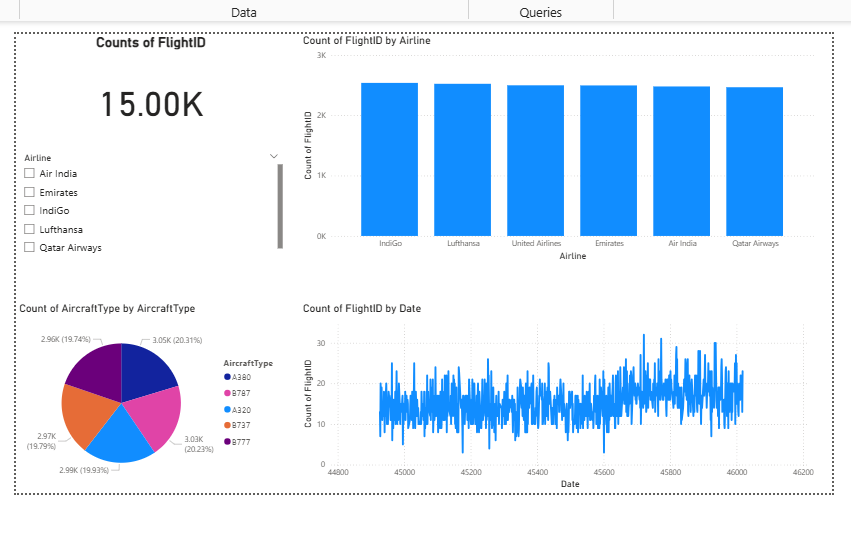

What the dashboard file says about the page in this screenshot:
{"tool":"powerbi","page":{"name":"Page 2","canvas":[1280,720],"ordinal":0},"visuals":[{"type":"card","title":"Counts of FlightID","fields":{"Values":["CountNonNull(Sheet1.FlightID)"]},"box":[0,0,423.5,180.4],"z":0},{"type":"lineChart","fields":{"Category":["Sheet1.Date"],"Y":["CountNonNull(Sheet1.FlightID)"]},"box":[445.1,419.6,811.8,300],"z":1000},{"type":"columnChart","fields":{"Category":["Sheet1.Airline"],"Y":["CountNonNull(Sheet1.FlightID)"]},"box":[445.1,0,811.8,360.8],"z":2000},{"type":"pieChart","fields":{"Category":["Sheet1.AircraftType"],"Y":["CountNonNull(Sheet1.AircraftType)"]},"box":[0,419.6,423.5,300],"z":3000},{"type":"slicer","fields":{"Values":["Sheet1.Airline"]},"box":[0,180.4,423.5,180.4],"z":4000}]}

Visuals, with their boxes on the page's 1280x720 design canvas (x1, y1, x2, y2). These are canvas units, not pixel positions in the 851x533 screenshot, which may show the page scaled, cropped or inside an application window:
"Counts of FlightID" card: [x1=0, y1=0, x2=424, y2=180]
lineChart - Sheet1.Date x CountNonNull(Sheet1.FlightID): [x1=445, y1=420, x2=1257, y2=720]
columnChart - Sheet1.Airline x CountNonNull(Sheet1.FlightID): [x1=445, y1=0, x2=1257, y2=361]
pieChart - Sheet1.AircraftType x CountNonNull(Sheet1.AircraftType): [x1=0, y1=420, x2=424, y2=720]
slicer - Sheet1.Airline: [x1=0, y1=180, x2=424, y2=361]
